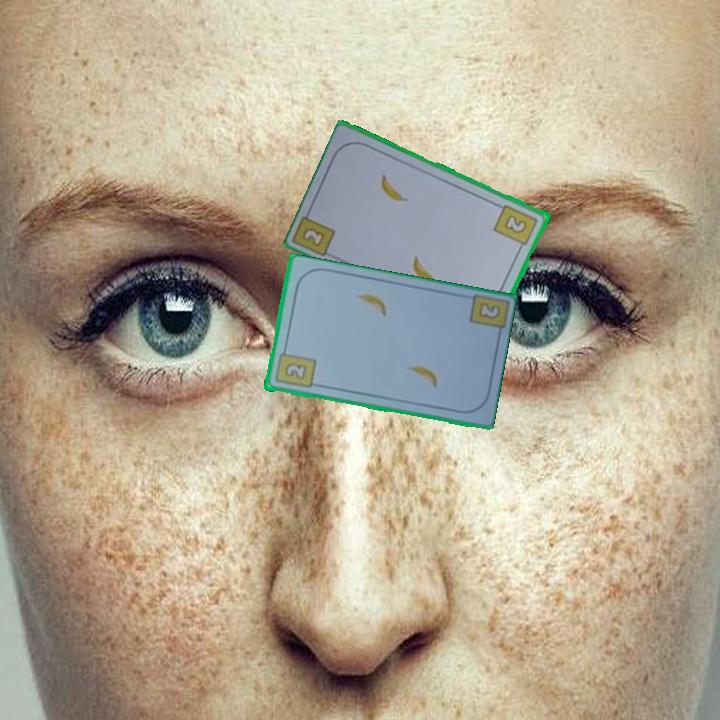2b: (491, 201, 541, 253), (271, 344, 318, 391), (475, 299, 503, 322), (301, 226, 326, 247)
